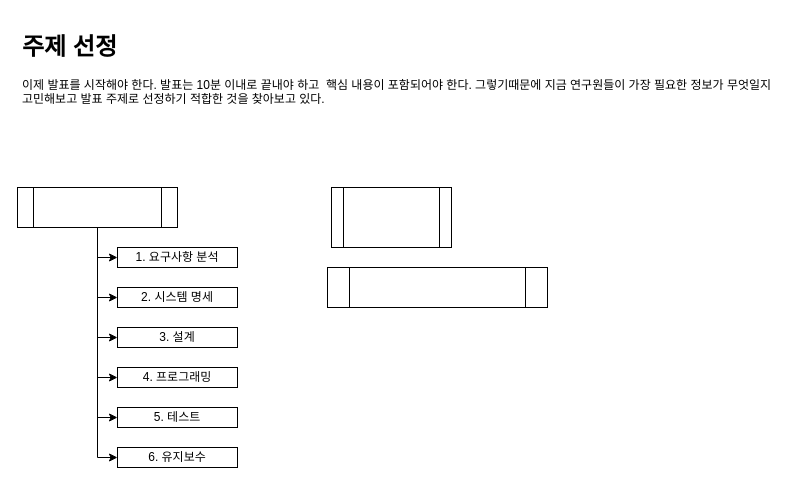
The diagram is 795 pixels wide and 485 high, and some of its shapes have lost their labels. The shapes that lost their labels are listed below. From the top down, each one's box as (x1, y1, x2, y2) in pixels, then its label:
(16, 186, 178, 228): 소프트웨어 개발 단계(Software Life Cycle)
(330, 186, 452, 248): linux 권한 다루기
(326, 266, 548, 308): Enabling rootless Linux Containers in multi-user environments:The udocker tool
